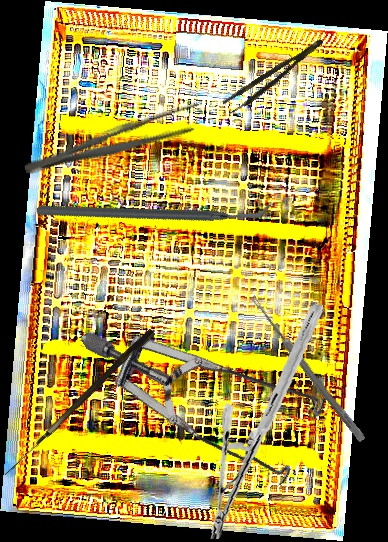Chopper: (35, 116, 274, 303)
Dressing Forceps: (20, 98, 207, 186)
Hook Surgical: (4, 325, 156, 483)
Needle Holder: (189, 304, 343, 540)
Speculum: (79, 244, 352, 534)
Surgical Spoon: (248, 294, 367, 443)
Tissue Forceps: (221, 37, 330, 116)
